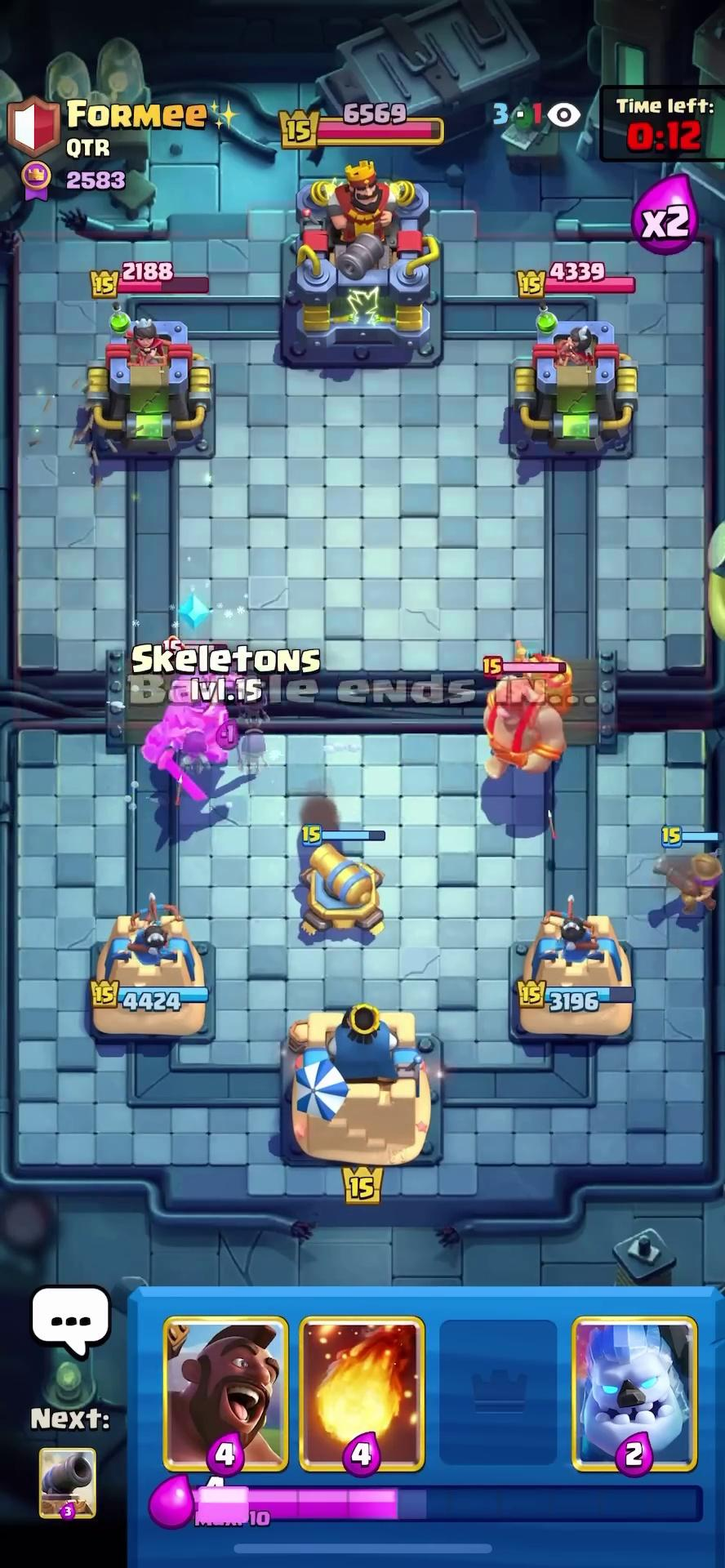cannon: (294, 827, 390, 941)
musketeer: (655, 835, 725, 915)
